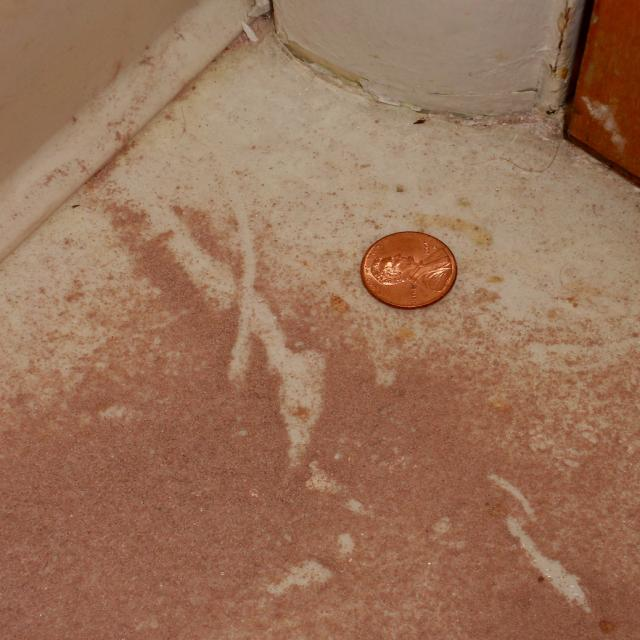Coin: (359, 232, 463, 311)
